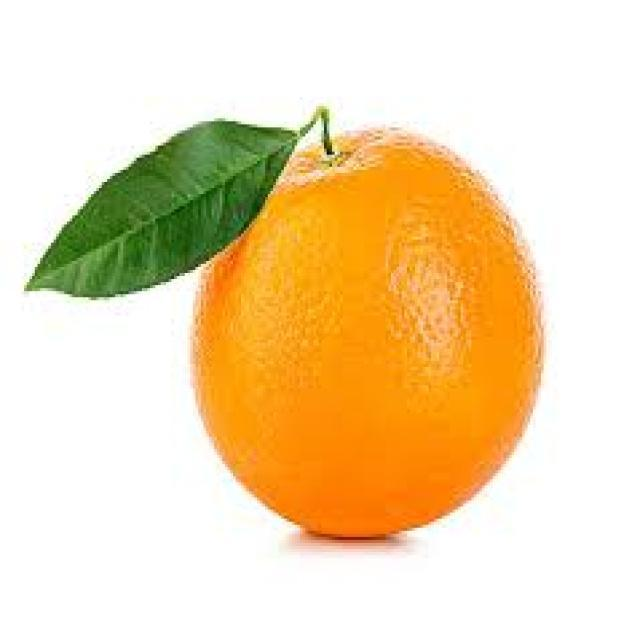Orange: (188, 122, 546, 540)
